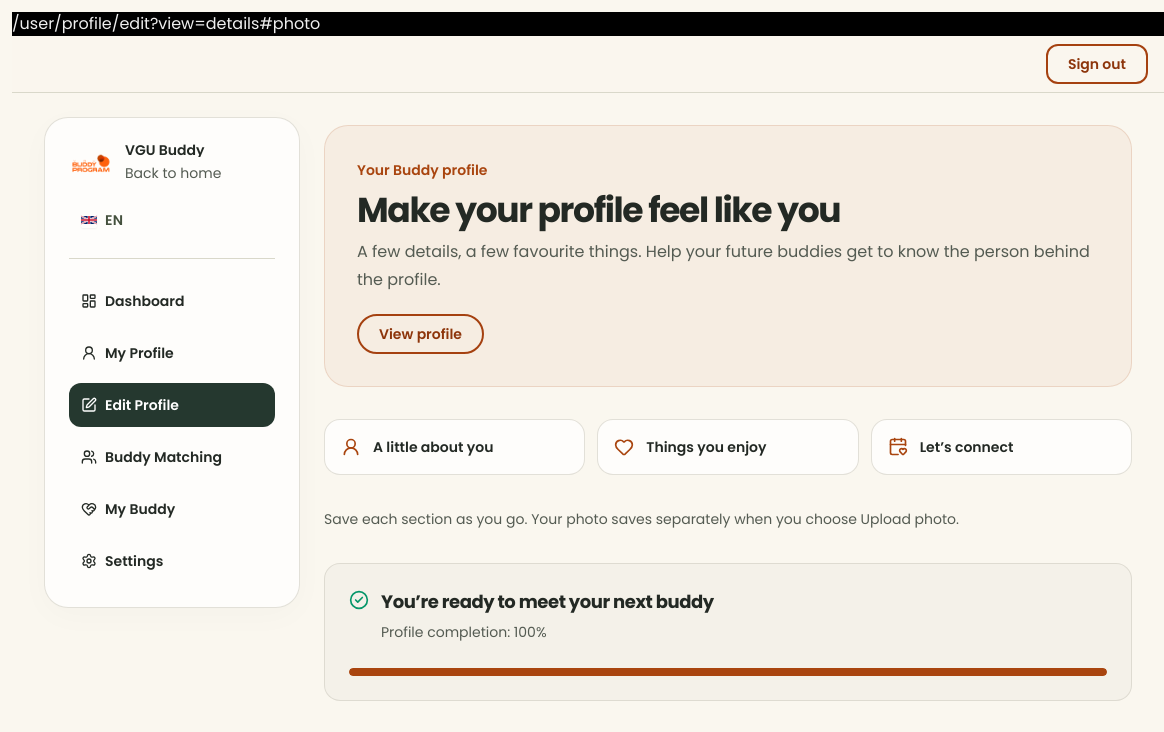
it: FE-021 guarded App and AUTH-021 session integration › mounts after reload verification/expired-access refresh and unmounts after logout
Check: the element named "Student workspace" is shown, box [44,117,300,608]
Check: the heading "Make your profile feel like you" is shown, box [357,186,840,234]
Click the button "Sign out": (1097,64) [1046,44,1148,84]
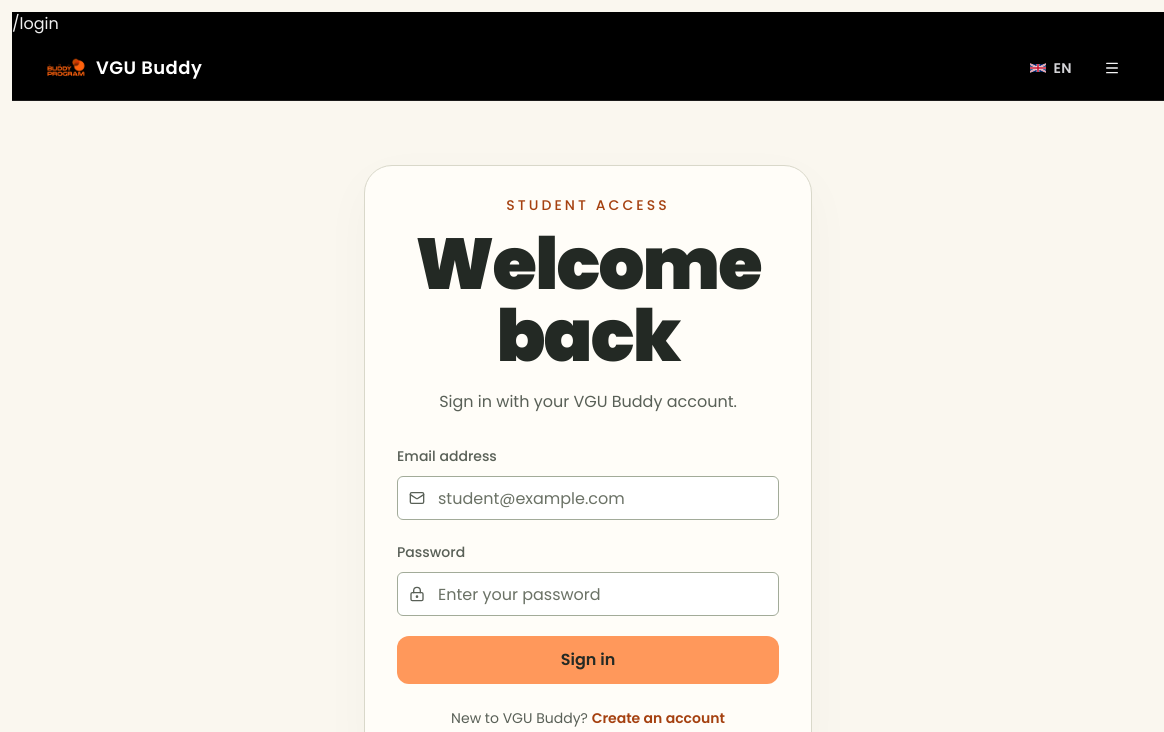
Check: the heading "Welcome back" is shown, box [397,228,779,372]
